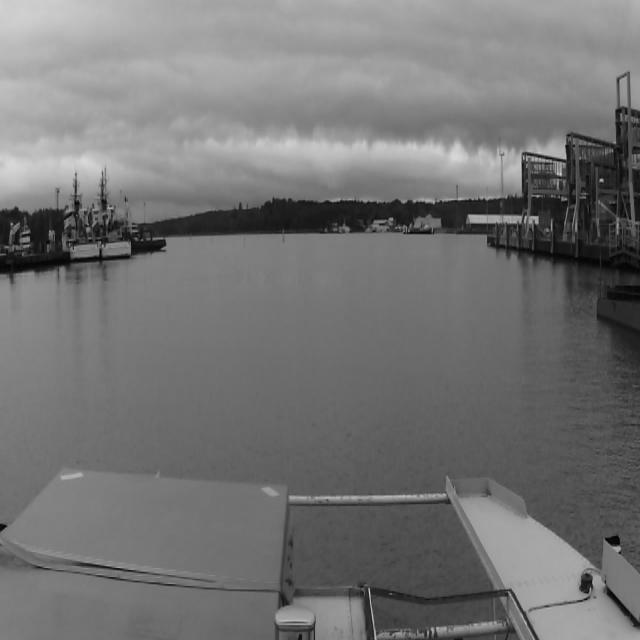buoy: (282, 228, 285, 242)
ship: (70, 161, 132, 259), (61, 170, 101, 262)
